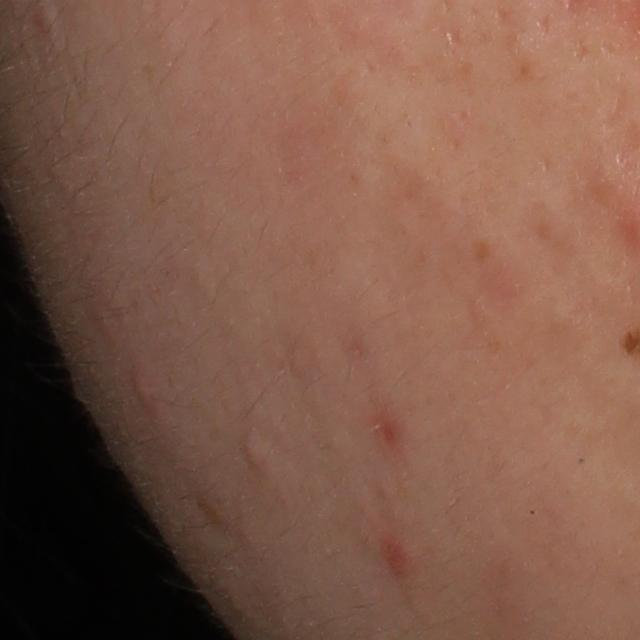atrophic_scar: (532, 11, 554, 38)
comedo: (241, 431, 270, 473)
papule: (382, 533, 409, 576), (131, 367, 158, 409)
